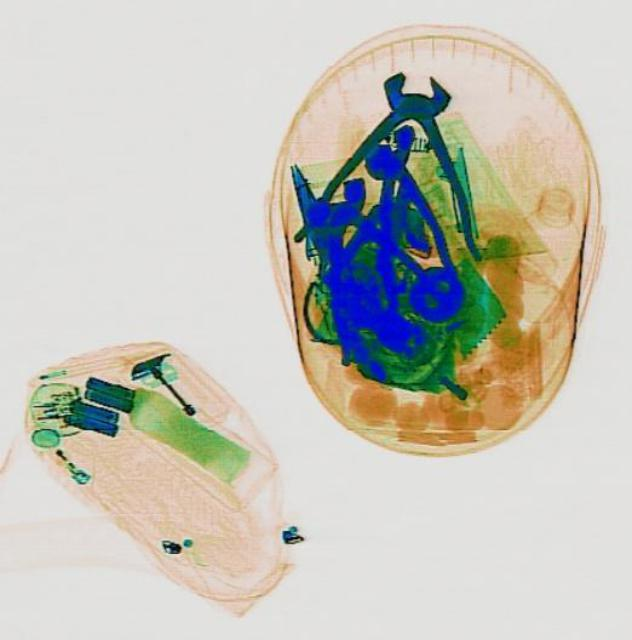Pliers: (290, 56, 512, 268)
